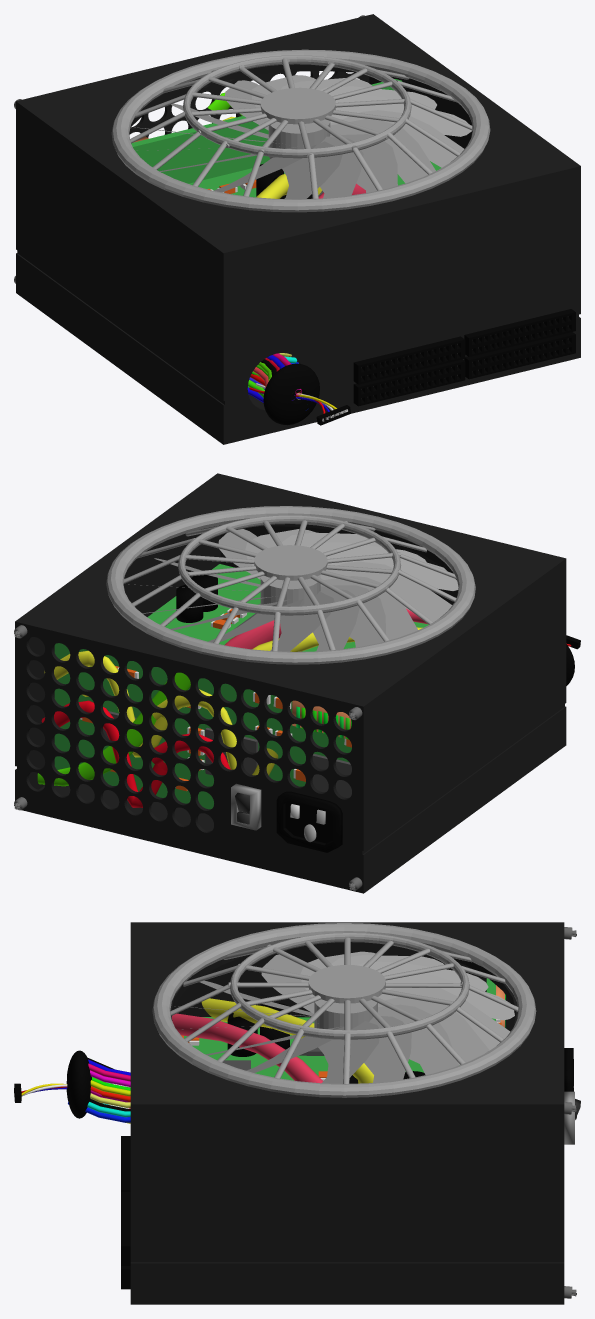
File: CorsairCV750.glb
The picture shows the model from 3 angles, top to bottom: view 1: azimuth 30°, elevation 25°; view 2: azimuth 150°, elevation 25°; view 3: azimuth 270°, elevation 25°; orthographic projection. The views are drawn at different scales.
Visible parts, largest first — view 1: Cube, Torus, Torus.001, Cube.001, Cube.029, Cube.031, Esfera, Cube.027, Cube.028, Cylinder.025, Plane.011, Plane (+13 smaller); view 2: Cube, Torus, Cube.001, Torus.001, Cubo.002, Cube.032, Cylinder.025, Plane.008, Plane.006, Plane.007, Curva_Bezier, Plane.002 (+20 smaller); view 3: Cube, Torus, Torus.001, Curva_Bezier.060, Cylinder.025, Plane.004, Plane.014, Plane.010, Plane, Cube.032, Plane.003, Plane.012 (+15 smaller).
Part boxes in pixels (x1,y1,x2,y2): Cube: (16, 14, 580, 444); Torus: (111, 49, 490, 212); Torus.001: (183, 55, 411, 158); Cube.001: (131, 79, 402, 183); Cube.029: (353, 336, 465, 384); Cube.031: (464, 309, 575, 356); Esfera: (263, 363, 319, 425); Cube.027: (464, 332, 575, 379); Cube.028: (353, 359, 465, 406); Cylinder.025: (260, 87, 335, 124); Plane.011: (330, 119, 435, 183); Plane: (330, 94, 471, 136); Cube: (15, 473, 566, 893); Torus: (106, 506, 475, 664); Cube.001: (54, 643, 351, 809); Torus.001: (178, 515, 401, 615); Cubo.002: (276, 791, 342, 852); Cube.032: (147, 564, 428, 651); Cylinder.025: (254, 545, 327, 580); Plane.008: (320, 561, 451, 621); Plane.006: (322, 546, 458, 590); Plane.007: (312, 586, 359, 651); Curva_Bezier: (37, 672, 190, 786); Plane.002: (320, 576, 417, 639); Cube: (130, 922, 564, 1304); Torus: (152, 923, 536, 1097); Torus.001: (230, 932, 469, 1039); Curva_Bezier.060: (172, 1013, 323, 1083); Cylinder.025: (308, 965, 385, 1003); Plane.004: (377, 1004, 458, 1074); Plane.014: (378, 997, 489, 1064); Plane.010: (364, 1016, 411, 1082); Plane: (318, 1021, 379, 1083); Cube.032: (184, 1017, 424, 1080); Plane.003: (378, 987, 510, 1050); Plane.012: (381, 969, 514, 1020).
Bounding box in the file's own units: 8.36 × 4.96 × 10.99.
